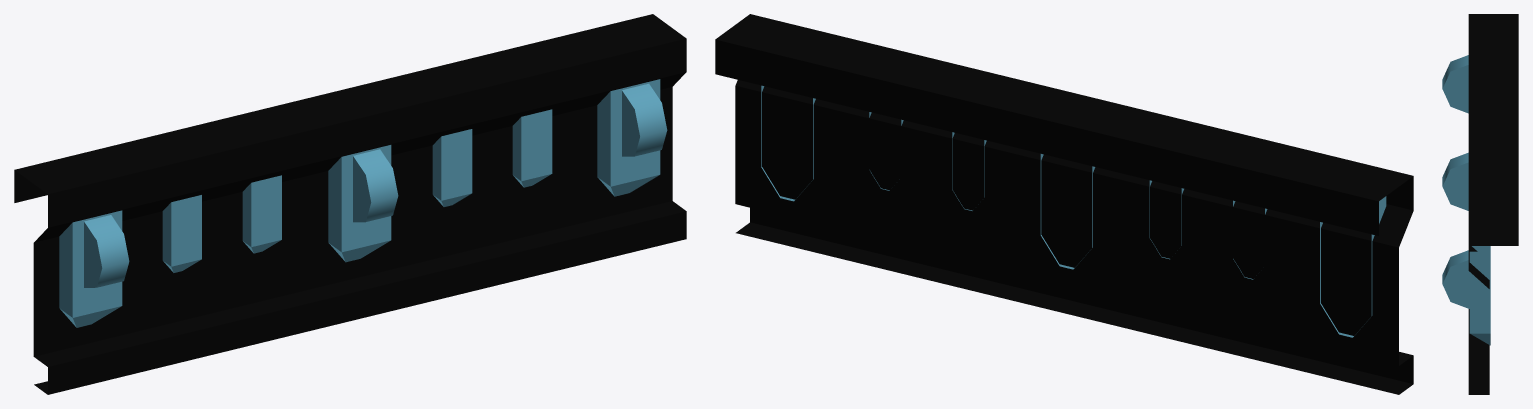
Rendered from wall1c cap lod0.FBX.
3 renders of one model, left to right at view 1: azimuth 30°, elevation 25°; view 2: azimuth 150°, elevation 25°; view 3: azimuth 270°, elevation 25°, orthographic. The views are drawn at different scales.
Visible parts, largest first — view 1: Object276; view 2: Object276; view 3: Object276.
Boxes of the visible parts, x1=… form: Object276: x1=14, y1=14, x2=686, y2=394; Object276: x1=715, y1=14, x2=1413, y2=394; Object276: x1=1442, y1=14, x2=1518, y2=394.
Size of the model in its own units: 6 by 1.8 by 0.8315.
